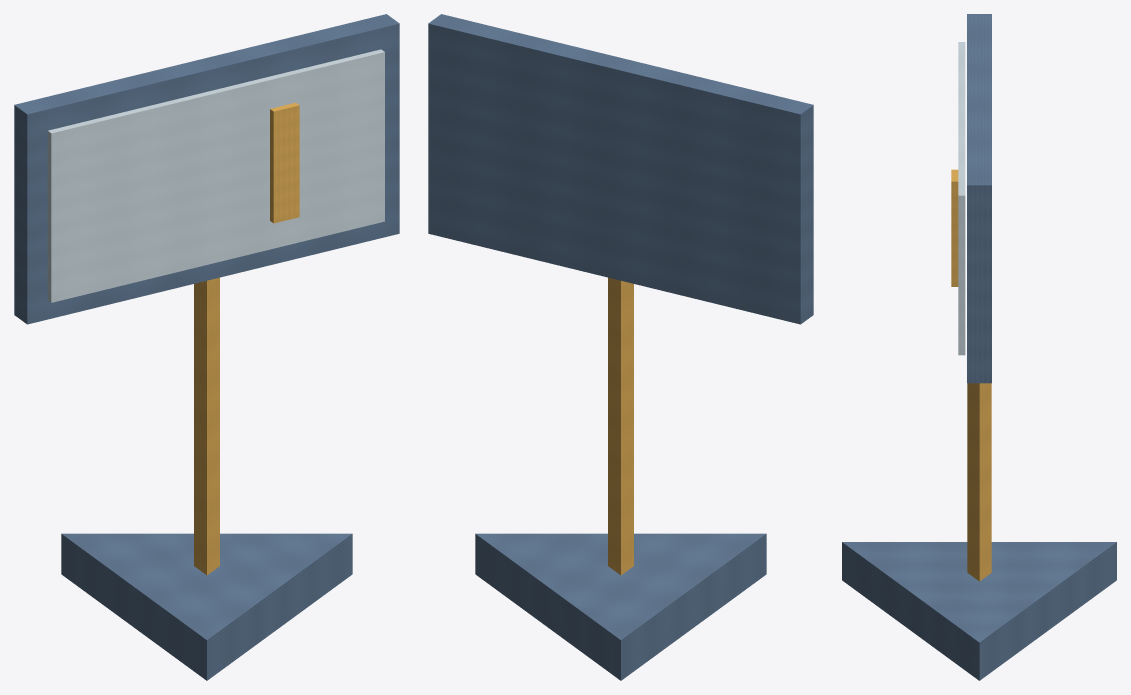
File: atlas100-s051-a11.lod2.glb
3 views of the same model, side by side, from view 1: azimuth 30°, elevation 25°; view 2: azimuth 150°, elevation 25°; view 3: azimuth 270°, elevation 25° (orthographic). The views are drawn at different scales.
Visible parts, largest first — view 1: atlas100-s051-a11:part-003, atlas100-s051-a11:part-002, atlas100-s051-a11:part-000, atlas100-s051-a11:part-001, atlas100-s051-a11:part-006; view 2: atlas100-s051-a11:part-002, atlas100-s051-a11:part-000, atlas100-s051-a11:part-001; view 3: atlas100-s051-a11:part-000, atlas100-s051-a11:part-002, atlas100-s051-a11:part-001, atlas100-s051-a11:part-003, atlas100-s051-a11:part-006.
Boxes of the visible parts, x1,y1,x2,y2 form: atlas100-s051-a11:part-003: (47, 49, 384, 302); atlas100-s051-a11:part-002: (14, 14, 399, 324); atlas100-s051-a11:part-000: (61, 533, 352, 680); atlas100-s051-a11:part-001: (194, 277, 219, 575); atlas100-s051-a11:part-006: (270, 102, 299, 223); atlas100-s051-a11:part-002: (428, 14, 813, 324); atlas100-s051-a11:part-000: (475, 533, 766, 680); atlas100-s051-a11:part-001: (608, 277, 633, 575); atlas100-s051-a11:part-000: (842, 542, 1116, 680); atlas100-s051-a11:part-002: (967, 14, 991, 383); atlas100-s051-a11:part-001: (967, 383, 991, 581); atlas100-s051-a11:part-003: (958, 42, 965, 355); atlas100-s051-a11:part-006: (951, 169, 958, 286).
Size of the model in its own units: 1.15 by 1.61 by 0.7794.
Materials: 3 (3 with a texture image).
